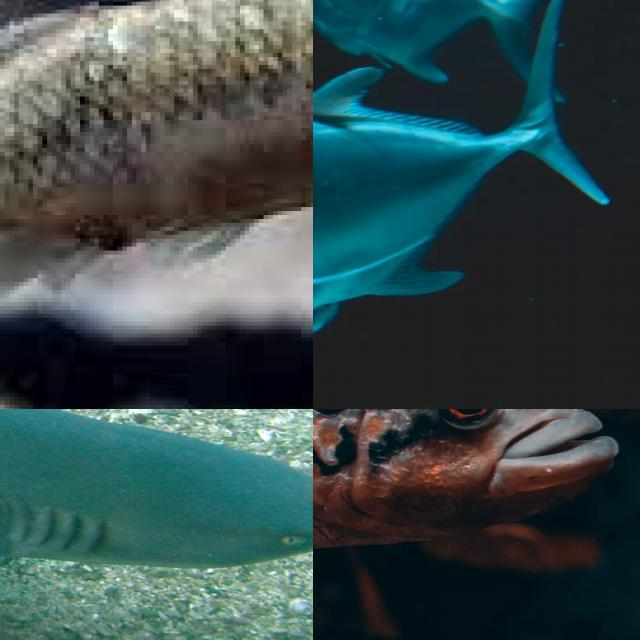fish: (4, 0, 313, 409), (0, 409, 313, 585), (313, 0, 616, 99), (313, 409, 640, 468)
